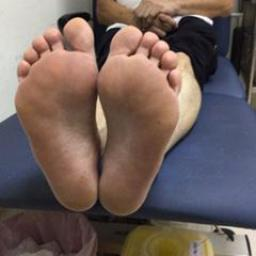Plantar View -Both Feet-: (6, 11, 189, 224)
